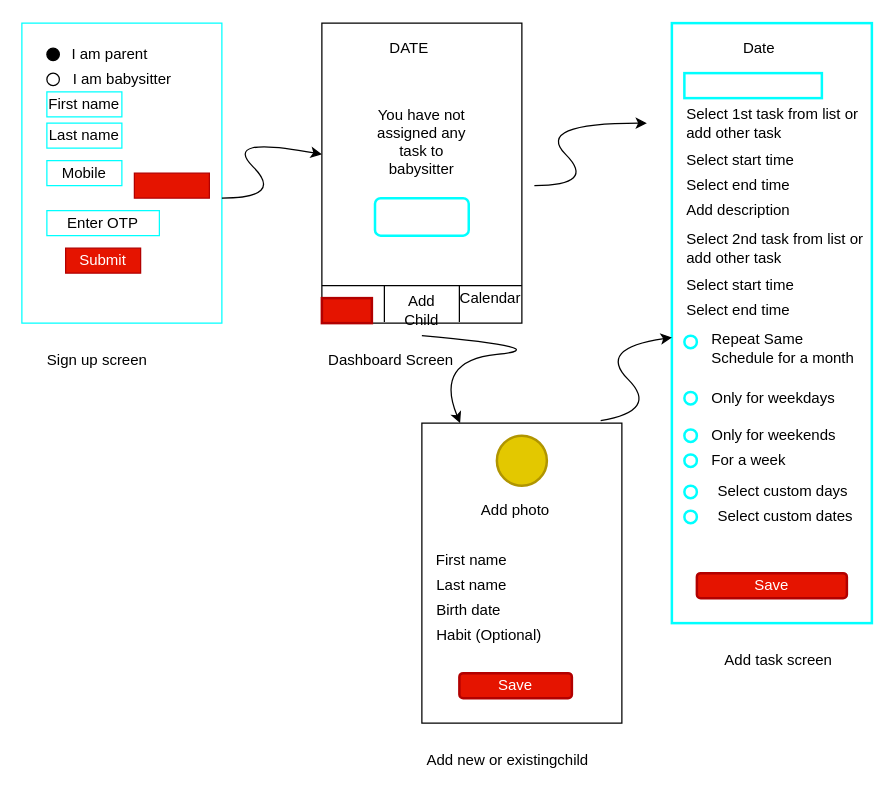
The diagram is 895 pixels wide and 794 high, and some of its shapes have lost their labels. The centre of each missing label's shape, as x and y in pixels:
"+ Add a task" belongs at (421,216).
"Child name list" belongs at (752,85).
"Daily task" belongs at (346,310).
"Send OTP" belongs at (171,185).
